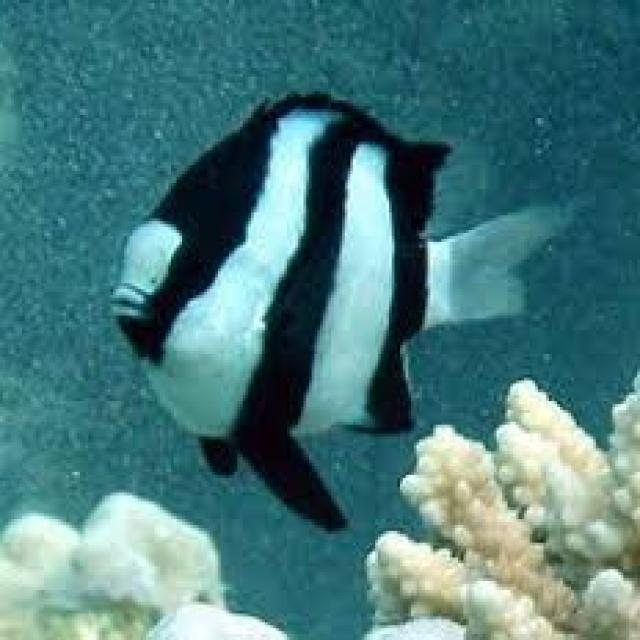Three_striped DasmselFish: (113, 89, 578, 534)
